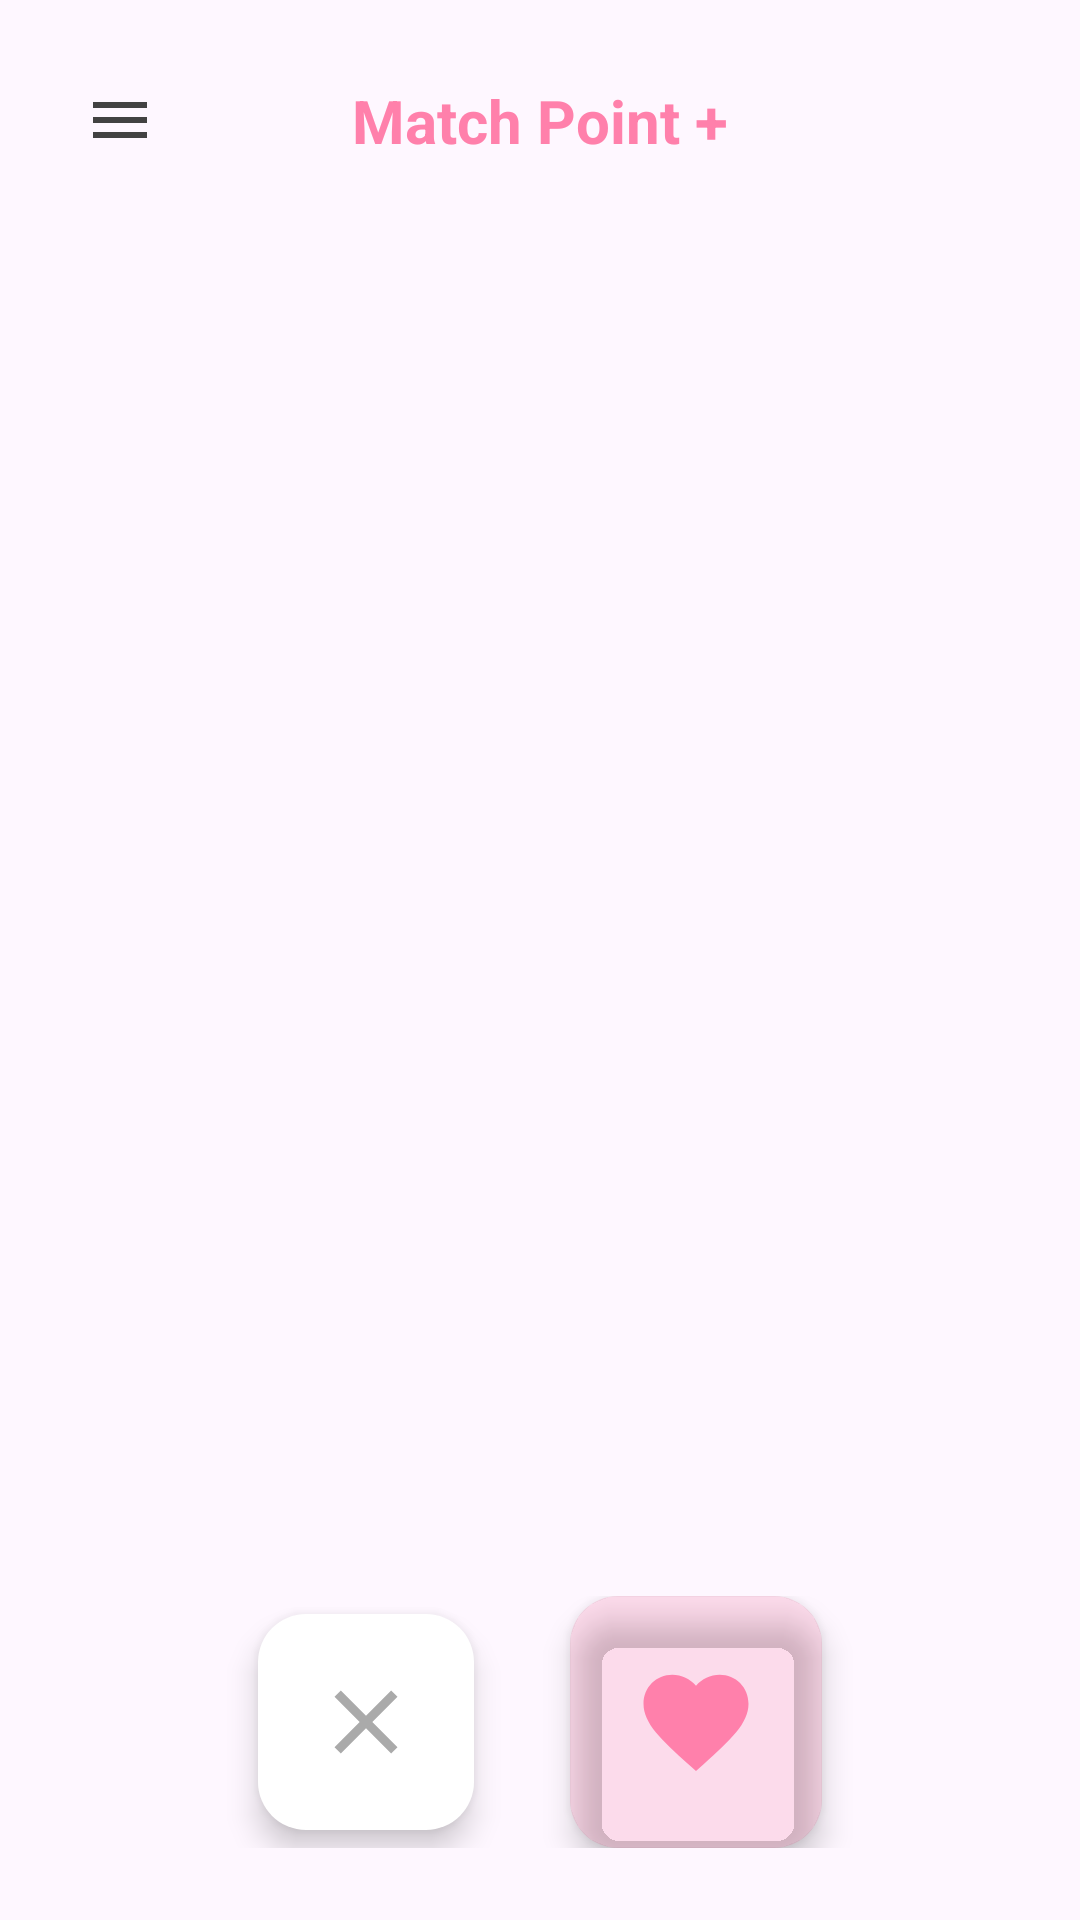

Icon click points for this 1080×1920 phone screenshot, format (x=x, y=y):
heart: (x=696, y=1722)
menu: (x=120, y=120)
